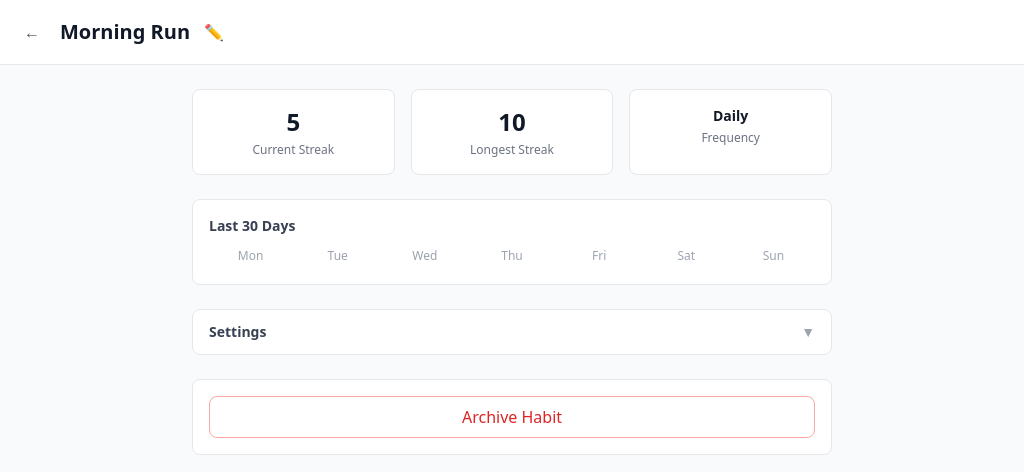
Test: HabitDetailView › Title editing › clicking edit button shows title input pre-populated with habit title
Click the button named "edit habit title". click: (214,32)
box: top-left (198, 14), bottom-right (230, 50)
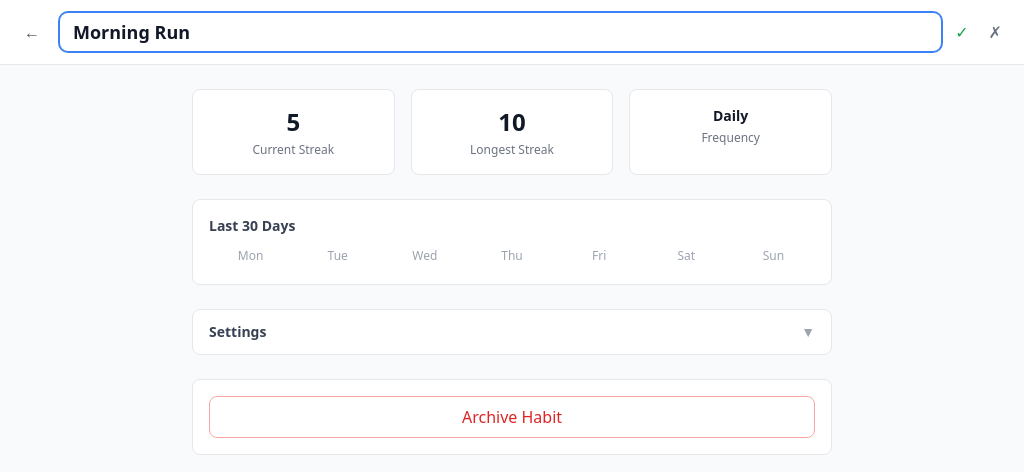
Expected: the field named "edit habit title" holds "Morning Run", top-left (60, 13), bottom-right (941, 51)
